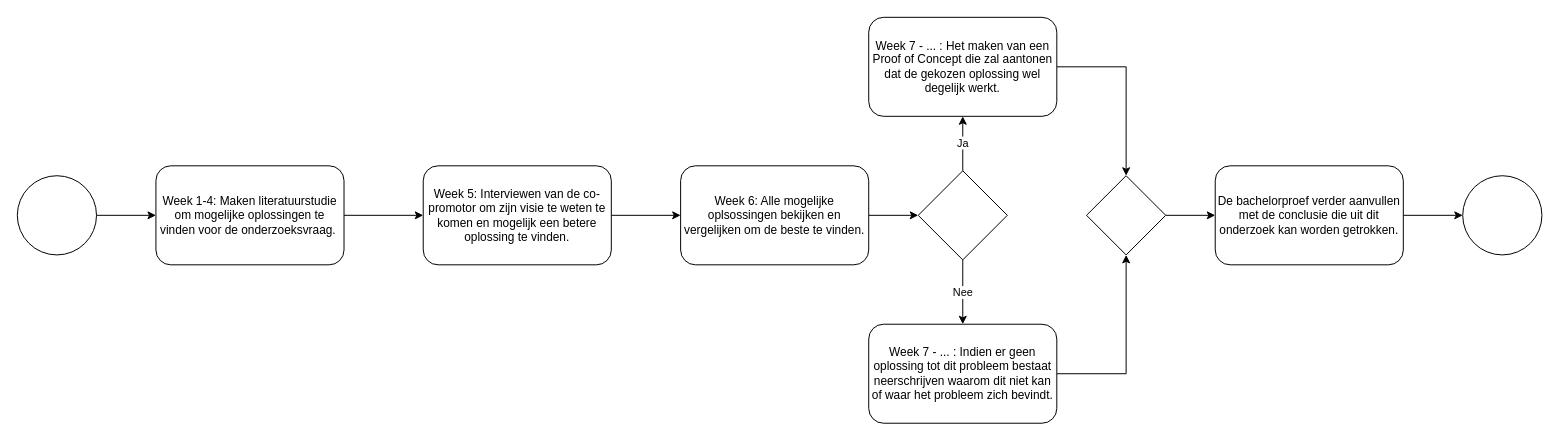
The diagram is 1559 pixels wide and 441 high, and some of its shapes have lost their labels. Each missing label, with the centre of its shape:
"Einde" belongs at (x=1502, y=215).
"Oplossing gevonden?" belongs at (x=962, y=215).
"Start" belongs at (x=56, y=215).
